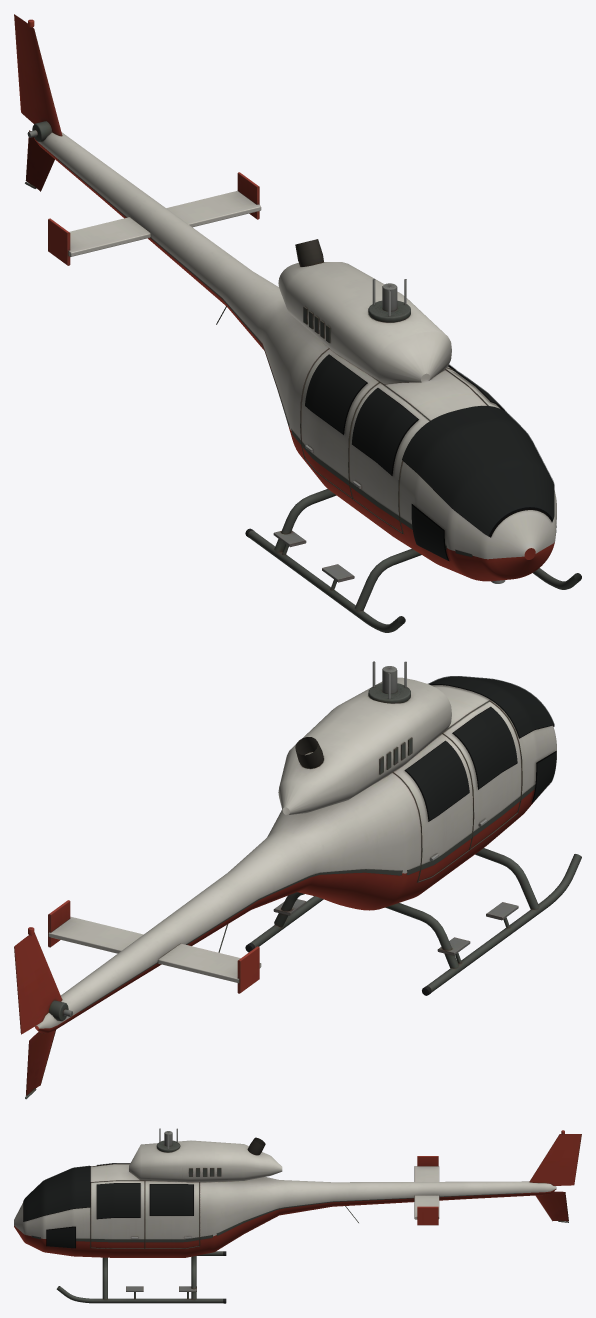
The model's file is helicopter.glb.
3 renders of one model, top to bottom at view 1: azimuth 30°, elevation 25°; view 2: azimuth 150°, elevation 25°; view 3: azimuth 270°, elevation 25°, orthographic. The views are drawn at different scales.
Visible parts, largest first — view 1: helicopter, helicopter_glass; view 2: helicopter, helicopter_glass; view 3: helicopter, helicopter_glass.
Boxes of the visible parts, box(x1,y1,x2,y2) form: helicopter: box(14, 14, 581, 632); helicopter_glass: box(305, 355, 554, 560); helicopter: box(14, 661, 581, 1099); helicopter_glass: box(406, 676, 556, 820); helicopter: box(14, 1128, 581, 1303); helicopter_glass: box(24, 1163, 193, 1248).
Size of the model in its own units: 2.07 by 2.78 by 9.63.
Materials: 2 (1 with a texture image).
